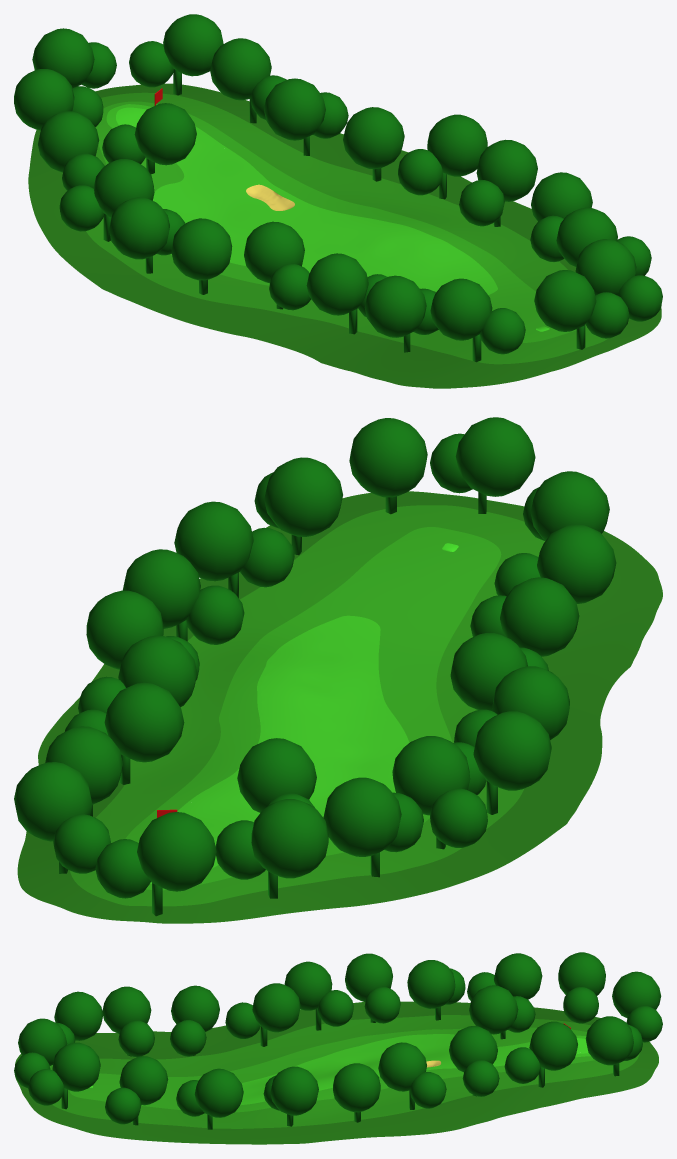
File: trap.glb
3 views of the same model, one above another, from view 1: azimuth 30°, elevation 25°; view 2: azimuth 150°, elevation 25°; view 3: azimuth 270°, elevation 25° (orthographic). The views are drawn at different scales.
Parts seen in each view (by area): view 1: OB, heavy-rough, fairway, rough, Sphere.021, Sphere.002, Sphere.006, Sphere.010, Sphere.005, Sphere.013, Sphere.018, Sphere.008 (+15 smaller); view 2: OB, heavy-rough, rough, fairway, Sphere.011, Sphere.004, Sphere.012, Sphere.010, Sphere.015, Sphere.005, Sphere.002, Sphere.014 (+14 smaller); view 3: OB, heavy-rough, rough, fairway, Sphere.018, Sphere.009, Sphere.001, Sphere.007, Sphere.003, Sphere.017, Sphere.016, Sphere.020 (+14 smaller).
Part boxes in pixels (box(x1,y1,x2,y2)): OB: box(28, 83, 661, 388); heavy-rough: box(86, 92, 607, 364); fairway: box(109, 105, 494, 293); rough: box(95, 101, 576, 342); Sphere.021: box(430, 278, 525, 362); Sphere.002: box(534, 270, 629, 349); Sphere.006: box(398, 114, 487, 199); Sphere.010: box(129, 14, 223, 95); Sphere.005: box(459, 139, 537, 226); Sphere.013: box(102, 103, 196, 174); Sphere.018: box(244, 221, 311, 310); Sphere.008: box(264, 78, 348, 155); OB: box(17, 491, 662, 923); heavy-rough: box(70, 505, 544, 906); rough: box(125, 527, 501, 890); fairway: box(181, 618, 405, 864); Sphere.011: box(95, 812, 216, 916); Sphere.004: box(174, 501, 294, 598); Sphere.012: box(215, 799, 328, 898); Sphere.010: box(14, 762, 110, 873); Sphere.015: box(392, 736, 487, 849); Sphere.005: box(122, 549, 244, 644); Sphere.002: box(430, 417, 535, 513); Sphere.014: box(323, 777, 423, 877); OB: box(14, 1001, 658, 1144); heavy-rough: box(50, 1015, 639, 1128); rough: box(69, 1027, 594, 1112); fairway: box(241, 1034, 589, 1103); Sphere.018: box(225, 983, 300, 1046); Sphere.009: box(504, 1021, 577, 1087); Sphere.001: box(28, 1042, 100, 1109); Sphere.007: box(378, 1042, 446, 1109); Sphere.003: box(105, 1056, 168, 1125); Sphere.017: box(284, 961, 353, 1030); Sphere.016: box(345, 953, 400, 1023); Sphere.020: box(102, 986, 154, 1057).
Bounding box in the file's own units: 1.02 × 0.2605 × 1.84.
